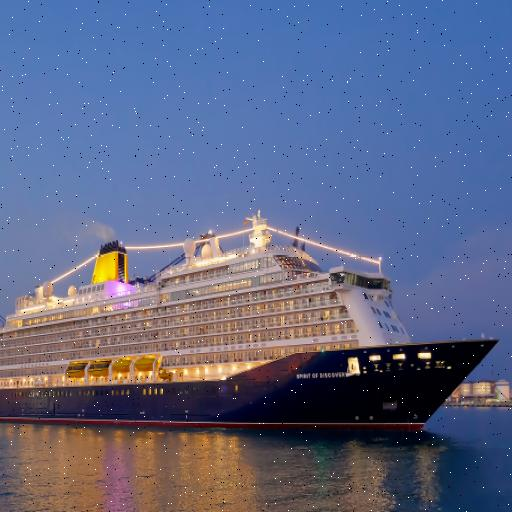cruises: (1, 210, 506, 444)
